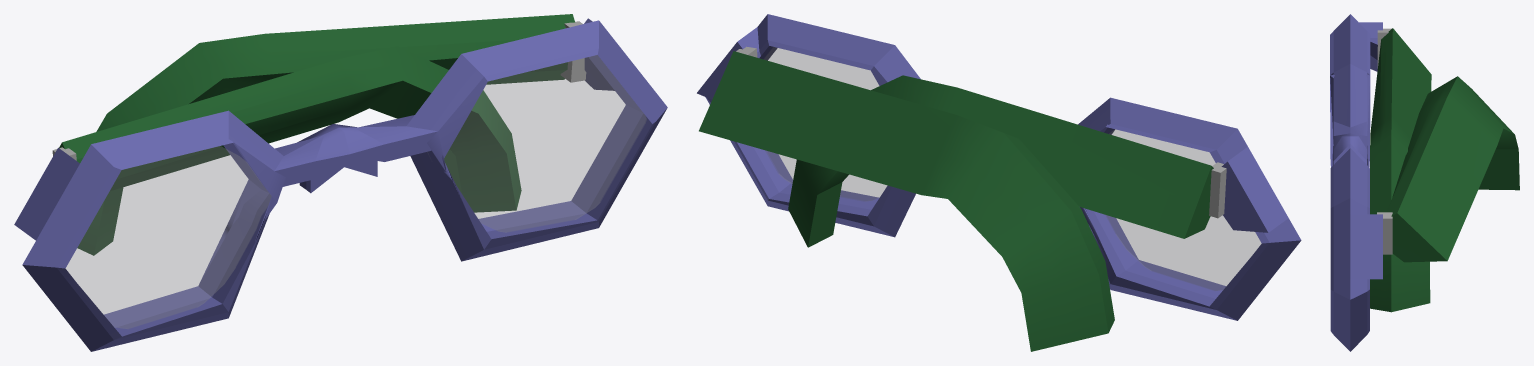
File: Gafas.fbx
3 views of the same model, side by side, from view 1: azimuth 30°, elevation 25°; view 2: azimuth 150°, elevation 25°; view 3: azimuth 270°, elevation 25° (orthographic). The views are drawn at different scales.
Parts seen in each view (by area): view 1: pasted__OJOS, pasted__lupasI, pasted__lupasD, pasted__PataL, pasted__pataR, pasted__apoyoR; view 2: pasted__pataR, pasted__OJOS, pasted__PataL, pasted__lupasD, pasted__lupasI, pasted__ApoyoL; view 3: pasted__pataR, pasted__OJOS, pasted__PataL, pasted__apoyoR, pasted__ApoyoL.
Part boxes in pixels (bbox=[...]): pasted__OJOS: bbox=[14, 18, 667, 351]; pasted__lupasI: bbox=[444, 55, 646, 232]; pasted__lupasD: bbox=[66, 146, 271, 328]; pasted__PataL: bbox=[59, 46, 521, 212]; pasted__pataR: bbox=[77, 14, 574, 255]; pasted__apoyoR: bbox=[560, 21, 586, 82]; pasted__pataR: bbox=[699, 51, 1114, 351]; pasted__OJOS: bbox=[697, 14, 1301, 320]; pasted__PataL: bbox=[788, 75, 1213, 247]; pasted__lupasD: bbox=[1106, 129, 1261, 290]; pasted__lupasI: bbox=[764, 47, 886, 201]; pasted__ApoyoL: bbox=[1209, 162, 1226, 218]; pasted__pataR: bbox=[1386, 76, 1519, 262]; pasted__OJOS: bbox=[1330, 14, 1382, 351]; pasted__PataL: bbox=[1370, 28, 1431, 312]; pasted__apoyoR: bbox=[1377, 212, 1392, 254]; pasted__ApoyoL: bbox=[1377, 28, 1391, 68].
Bounding box in the file's own units: 6.25 × 1.96 × 2.15.
